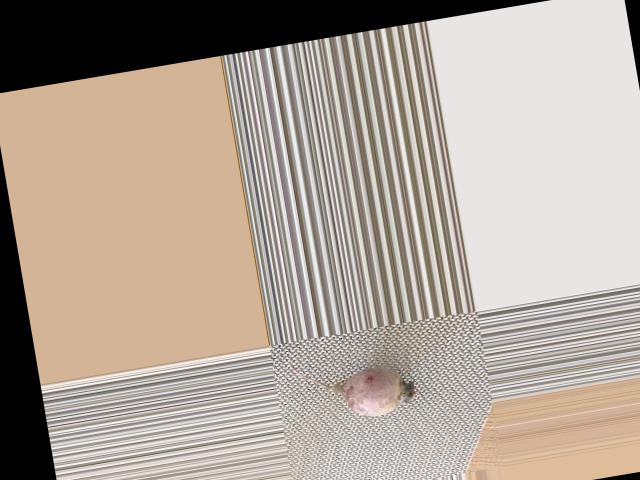beet: (287, 341, 421, 427)
